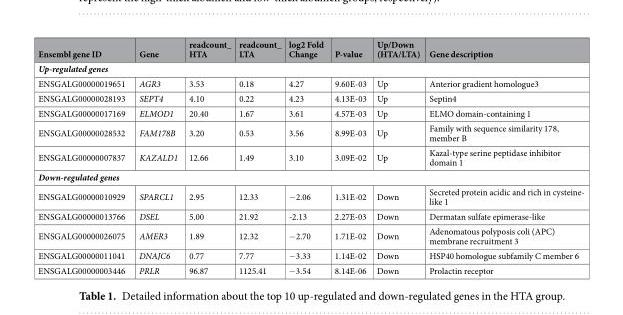table: (37, 37, 583, 276)
table column: (423, 37, 583, 276), (37, 37, 131, 276), (370, 37, 423, 276), (182, 37, 234, 276), (131, 37, 182, 276), (234, 37, 284, 276), (284, 37, 328, 276), (328, 37, 370, 276)
table column header: (37, 37, 583, 60)
table projected row header: (37, 168, 583, 184), (37, 60, 583, 75)
table row: (37, 120, 583, 144), (37, 144, 583, 168), (37, 184, 583, 208), (37, 223, 583, 247), (37, 37, 583, 60), (37, 168, 583, 184), (37, 60, 583, 75), (37, 75, 583, 90), (37, 90, 583, 105), (37, 105, 583, 120), (37, 208, 583, 223), (37, 247, 583, 262), (37, 262, 583, 276)
